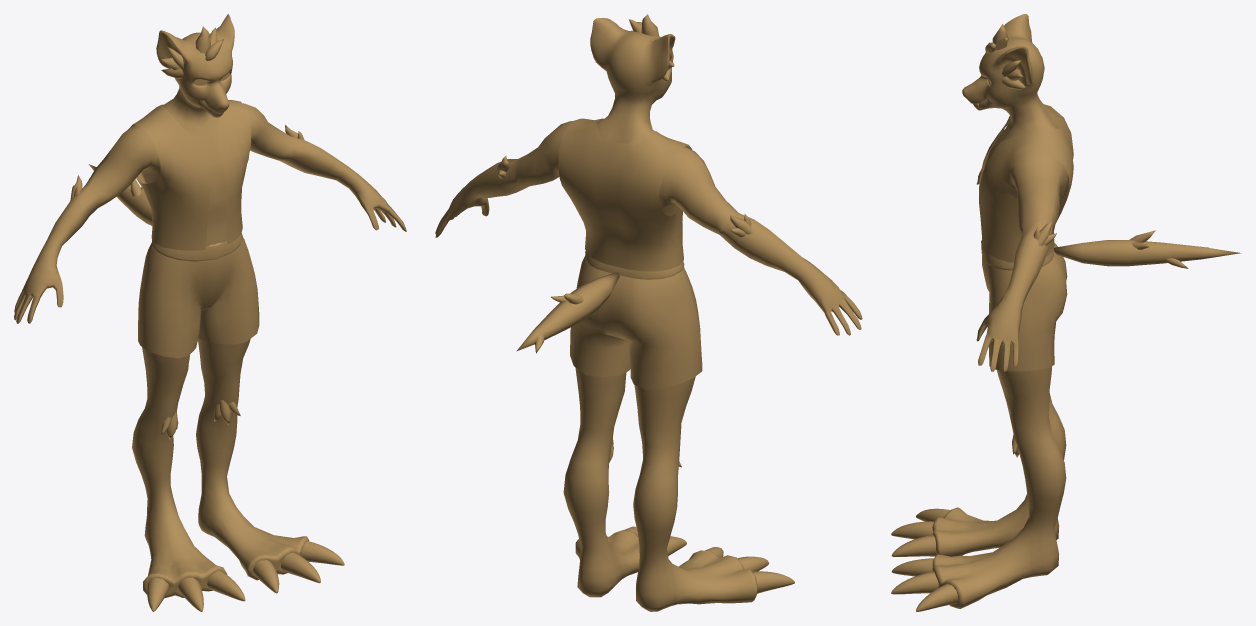
File: wolf_export.fbx
The picture shows the model from 3 angles, left to right: view 1: azimuth 30°, elevation 25°; view 2: azimuth 150°, elevation 25°; view 3: azimuth 270°, elevation 25°; orthographic projection. The views are drawn at different scales.
Visible parts, largest first — view 1: body_lp, shorts_lp, shirt_lp, claws_lp, tail, kneetufts_lp, hair_lp; view 2: body_lp, shirt_lp, shorts_lp, tail, claws_lp, elbowtufts_lp; view 3: body_lp, shirt_lp, shorts_lp, claws_lp, tail, eartufts_lp.
Part boxes in pixels (box(x1,y1,x2,y2)): body_lp: box(14, 14, 406, 598); shorts_lp: box(138, 233, 259, 358); shirt_lp: box(128, 100, 251, 250); claws_lp: box(147, 541, 344, 611); tail: box(88, 164, 152, 225); kneetufts_lp: box(161, 399, 240, 439); hair_lp: box(195, 26, 223, 60); body_lp: box(435, 18, 862, 611); shirt_lp: box(558, 118, 692, 271); shorts_lp: box(570, 251, 702, 389); tail: box(516, 272, 619, 351); claws_lp: box(624, 526, 794, 593); elbowtufts_lp: box(496, 155, 752, 237); body_lp: box(932, 14, 1068, 608); shirt_lp: box(979, 104, 1073, 262); shorts_lp: box(981, 240, 1067, 371); claws_lp: box(891, 508, 957, 611); tail: box(1054, 240, 1241, 266); eartufts_lp: box(1002, 60, 1025, 89).
Bounding box in the file's own units: 147 × 195 × 113.
